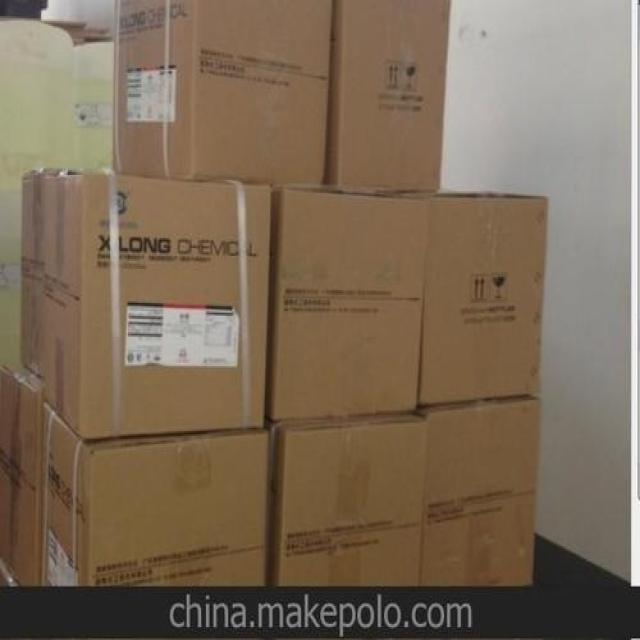box: (19, 167, 268, 442), (42, 403, 270, 587), (262, 190, 430, 425), (394, 186, 552, 412), (325, 0, 452, 188), (271, 408, 425, 549), (419, 395, 543, 523), (0, 360, 47, 590), (420, 496, 535, 585), (269, 525, 424, 587)
